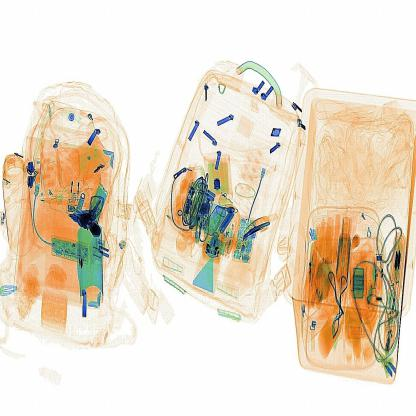pliers: (246, 211, 280, 245)
